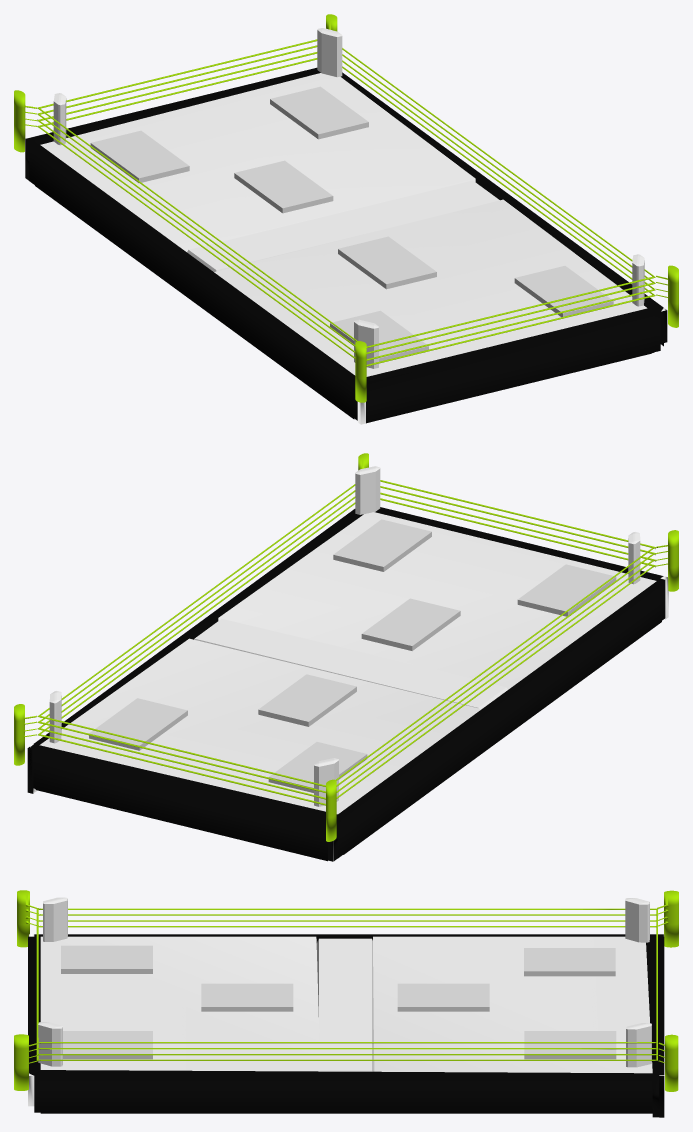
File: ring final.glb
3 views of the same model, one above another, from view 1: azimuth 30°, elevation 25°; view 2: azimuth 150°, elevation 25°; view 3: azimuth 270°, elevation 25° (orthographic). The views are drawn at different scales.
Visible parts, largest first — view 1: Cube, Cubo.002, Cubo.001, Cubo.003, Cubo, Cubo.004, Cubo.005; view 2: Cube, Cubo.003, Cubo.004, Cubo.002, Cubo.001, Cubo.005, Cubo; view 3: Cube, Cubo.002, Cubo.003, Cubo, Cubo.005, Cubo.001, Cubo.004.
Part boxes in pixels (x1=…): Cube: x1=14, y1=14, x2=678, y2=424; Cubo.002: x1=234, y1=160, x2=333, y2=213; Cubo.001: x1=270, y1=86, x2=368, y2=139; Cubo.003: x1=338, y1=236, x2=436, y2=289; Cubo: x1=90, y1=130, x2=189, y2=183; Cubo.004: x1=514, y1=266, x2=613, y2=317; Cubo.005: x1=330, y1=310, x2=428, y2=361; Cube: x1=14, y1=453, x2=678, y2=861; Cubo.003: x1=361, y1=598, x2=460, y2=650; Cubo.004: x1=333, y1=519, x2=431, y2=571; Cubo.002: x1=258, y1=674, x2=356, y2=726; Cubo.001: x1=89, y1=698, x2=187, y2=750; Cubo.005: x1=517, y1=564, x2=616, y2=616; Cubo: x1=268, y1=742, x2=367, y2=792; Cube: x1=14, y1=890, x2=678, y2=1117; Cubo.002: x1=397, y1=983, x2=489, y2=1011; Cubo.003: x1=201, y1=983, x2=293, y2=1011; Cubo: x1=524, y1=948, x2=615, y2=976; Cubo.005: x1=61, y1=945, x2=152, y2=973; Cubo.001: x1=524, y1=1031, x2=616, y2=1059; Cubo.004: x1=63, y1=1031, x2=152, y2=1059.
Size of the model in its own units: 25.06 by 6.69 by 47.4.
